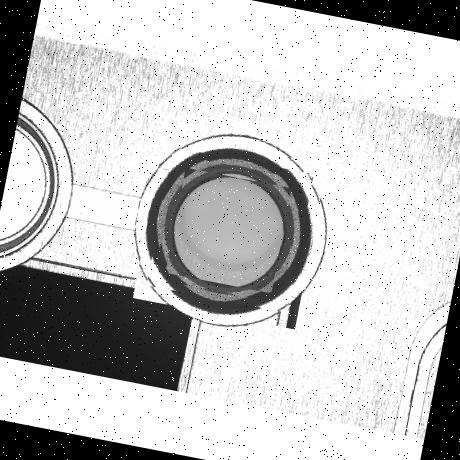Hole: (132, 133, 328, 329)
Hole2: (146, 146, 314, 312)
Hole3: (154, 154, 304, 304)
Hole4: (164, 166, 292, 293)
